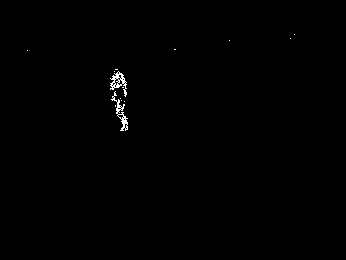person: (112, 70, 131, 134)
